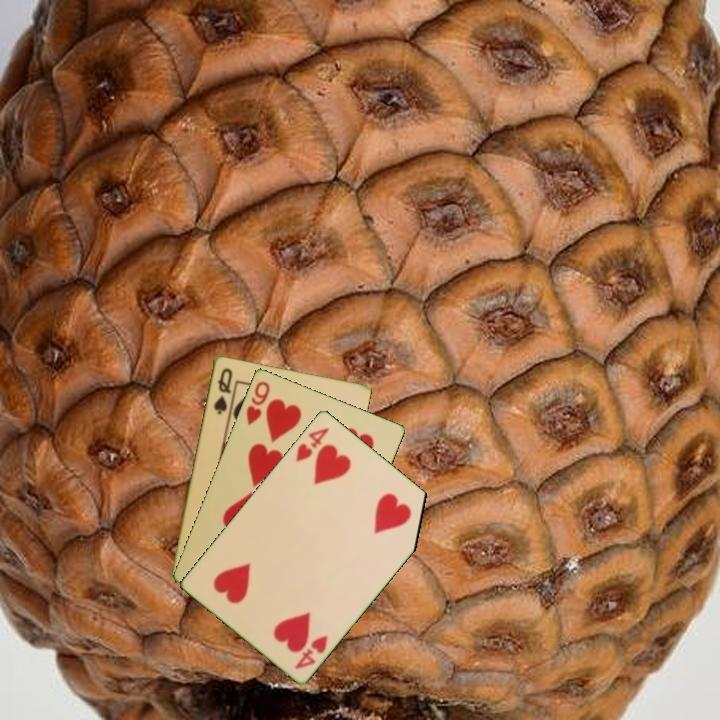4h: (292, 423, 332, 465), (291, 631, 331, 672)
9h: (242, 377, 273, 428)
Qs: (210, 364, 235, 417)
